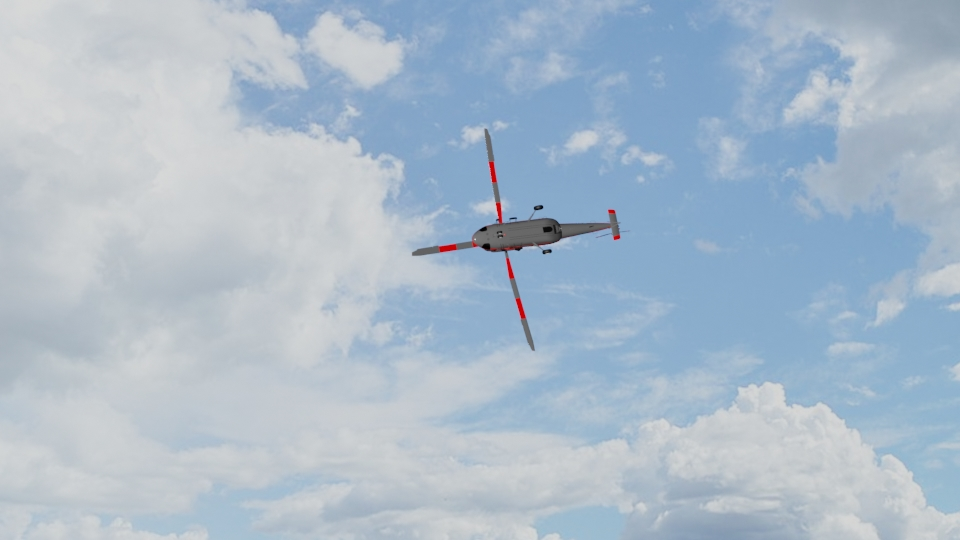heli: (410, 128, 623, 349)
